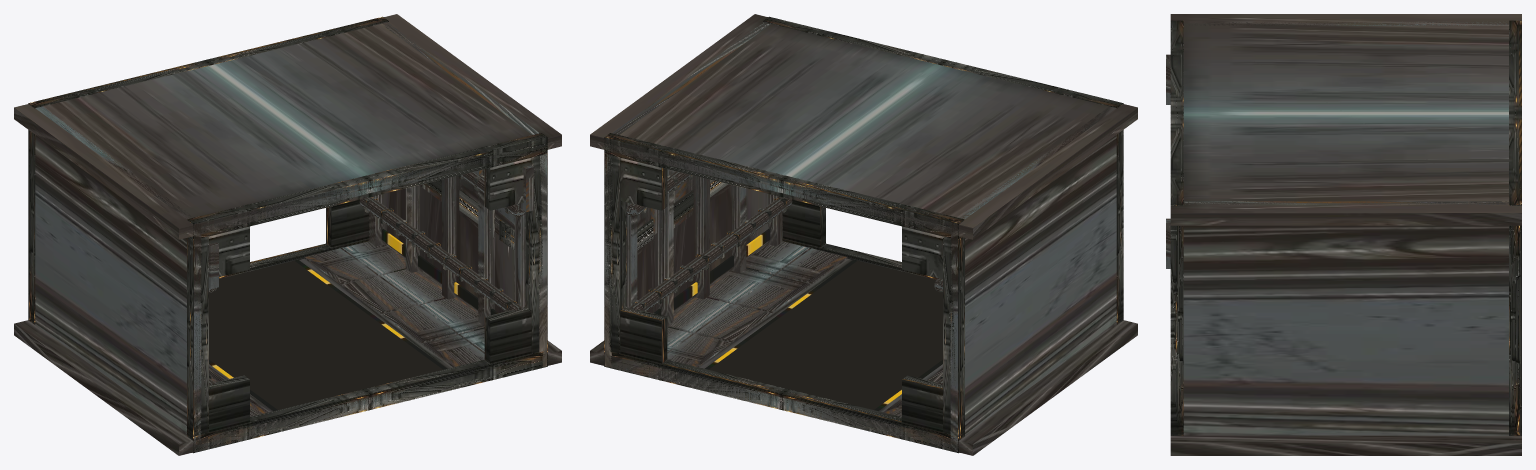
File: hangar_koridor_ankora_notr.glb
The picture shows the model from 3 angles, left to right: view 1: azimuth 30°, elevation 25°; view 2: azimuth 150°, elevation 25°; view 3: azimuth 270°, elevation 25°; orthographic projection. The views are drawn at different scales.
Parts seen in each view (by area): view 1: LOD0_koridor; view 2: LOD0_koridor; view 3: LOD0_koridor.
Boxes of the visible parts, bbox=[...] form: LOD0_koridor: bbox=[14, 14, 561, 455]; LOD0_koridor: bbox=[590, 14, 1137, 455]; LOD0_koridor: bbox=[1166, 14, 1521, 455].
Bounding box in the file's own units: 10.2 × 5.84 × 7.7.
Materials: 1 (1 with a texture image).
